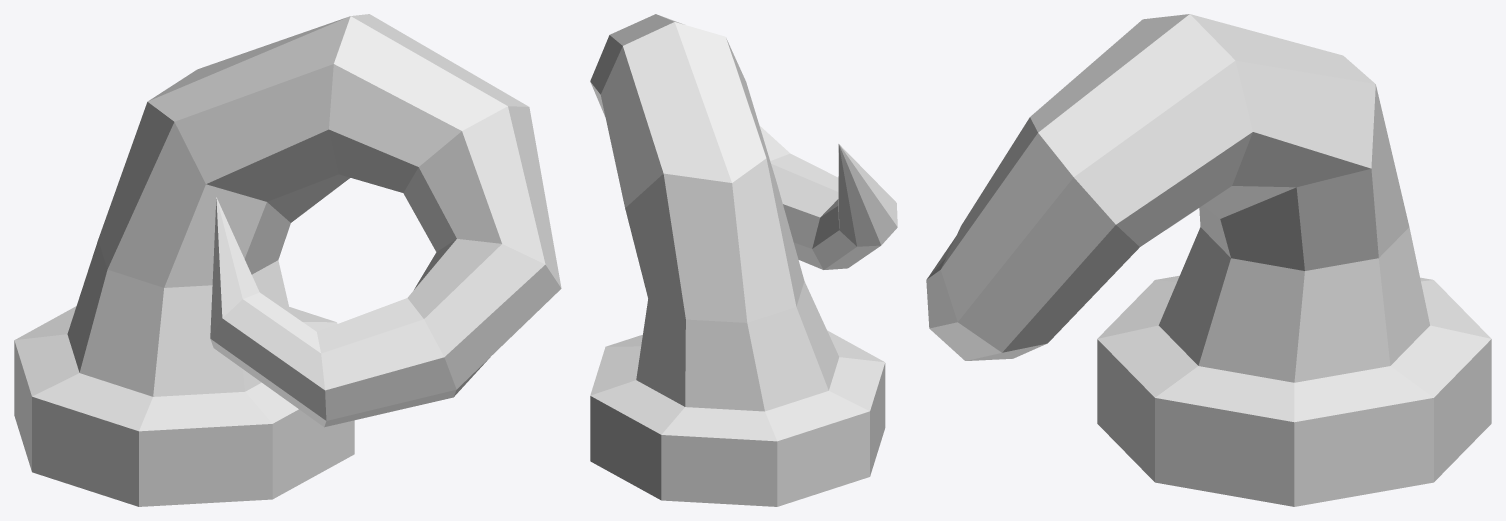
The model's file is Bone_Spike_00.FBX.
3 views of the same model, side by side, from view 1: azimuth 30°, elevation 25°; view 2: azimuth 150°, elevation 25°; view 3: azimuth 270°, elevation 25° (orthographic). The views are drawn at different scales.
Visible parts, largest first — view 1: Bone_Spike_00; view 2: Bone_Spike_00; view 3: Bone_Spike_00.
Boxes of the visible parts, box(x1,y1,x2,y2) form: Bone_Spike_00: box(14, 14, 561, 506); Bone_Spike_00: box(590, 14, 897, 506); Bone_Spike_00: box(926, 14, 1491, 506).
Size of the model in its own units: 1.47 by 1.48 by 1.6.
